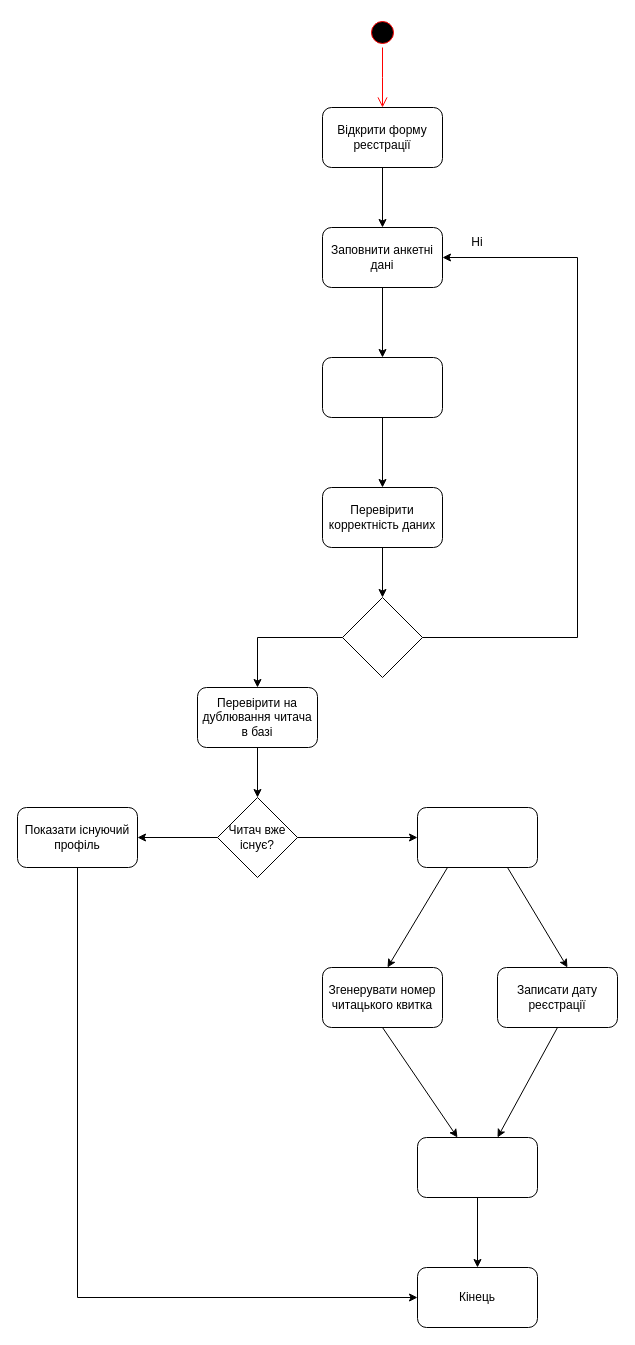
Image size: 635x1345. Some labels were removed from this diagram. The centre of each missing label's shape, as x and y in pixels:
"Дані коректні?" goes at (x=382, y=637).
"Надіслати анкету на перевірку" goes at (x=382, y=387).
"Показати повідомлення про успішну реєстрацію" goes at (x=477, y=1167).
"Створити запис читача в базі" goes at (x=477, y=837).
